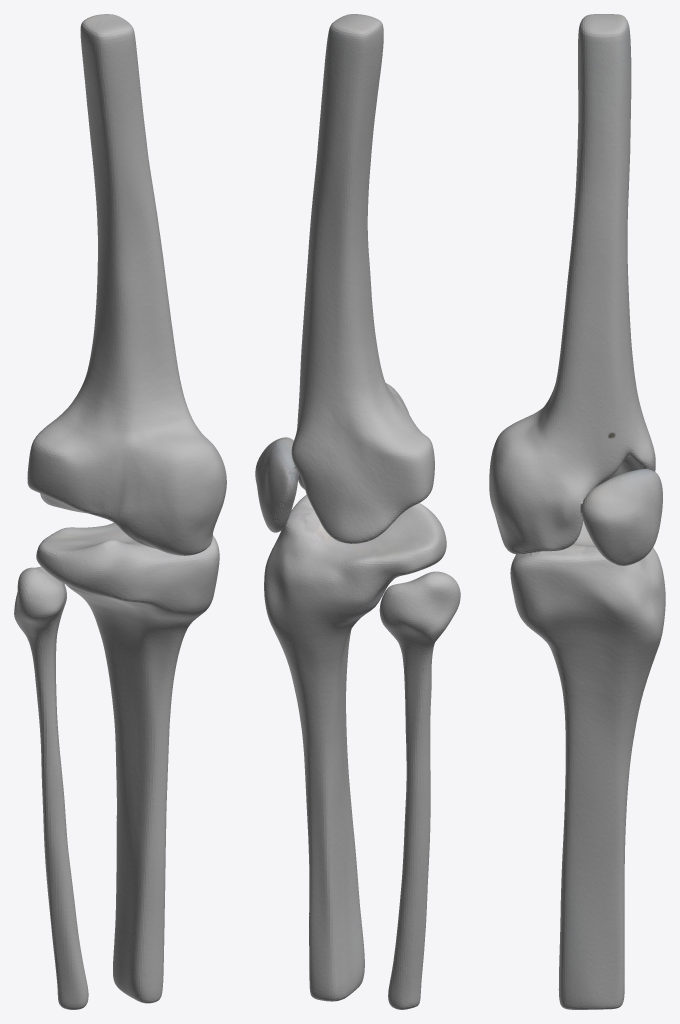
File: born_knee.glb
The picture shows the model from 3 angles, left to right: view 1: azimuth 30°, elevation 25°; view 2: azimuth 150°, elevation 25°; view 3: azimuth 270°, elevation 25°; orthographic projection.
Visible parts, largest first — view 1: tripo_node_19239756-3b32-4ebf-b5a8-a8ef441171cd; view 2: tripo_node_19239756-3b32-4ebf-b5a8-a8ef441171cd; view 3: tripo_node_19239756-3b32-4ebf-b5a8-a8ef441171cd.
Part boxes in pixels (x1,y1,x2,y2): tripo_node_19239756-3b32-4ebf-b5a8-a8ef441171cd: (14, 14, 226, 1009); tripo_node_19239756-3b32-4ebf-b5a8-a8ef441171cd: (255, 14, 460, 1009); tripo_node_19239756-3b32-4ebf-b5a8-a8ef441171cd: (489, 14, 665, 1009).
Size of the model in its own units: 0.2015 by 1 by 0.1643.
Materials: 1 (1 with a texture image).
